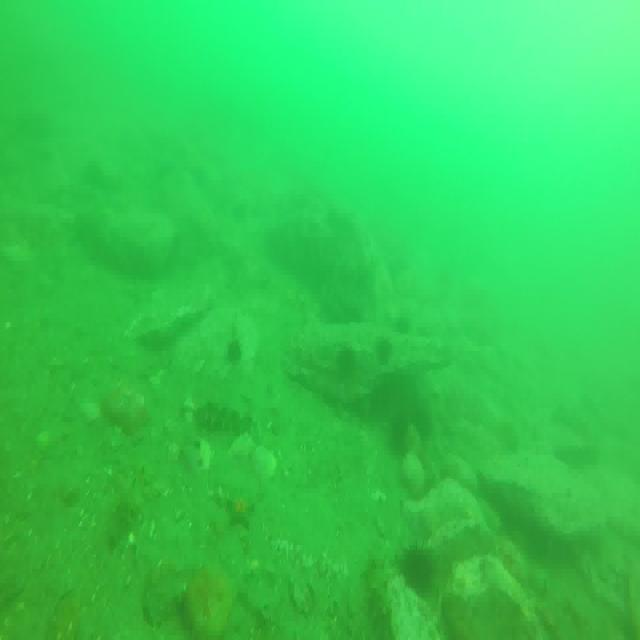echinus: (400, 542, 438, 599), (392, 412, 409, 451), (336, 346, 356, 377), (375, 335, 390, 365), (228, 337, 242, 361)
holothurian: (108, 470, 145, 554), (195, 400, 252, 439), (364, 553, 390, 620)
starfish: (227, 490, 254, 529)
